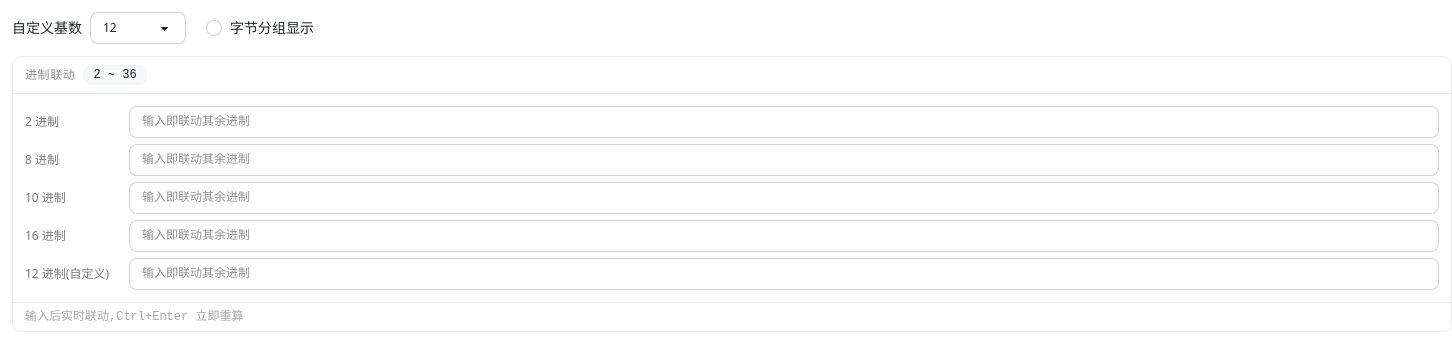
Test: Radix 多进制同显(FE6) › 任一进制行可作输入源:改写 16 进制驱动其余联动
The image size is (1452, 349).
In the field named "16 进制": [784, 236] box [129,220,1439,252], type "ff"
Wait 150 ms
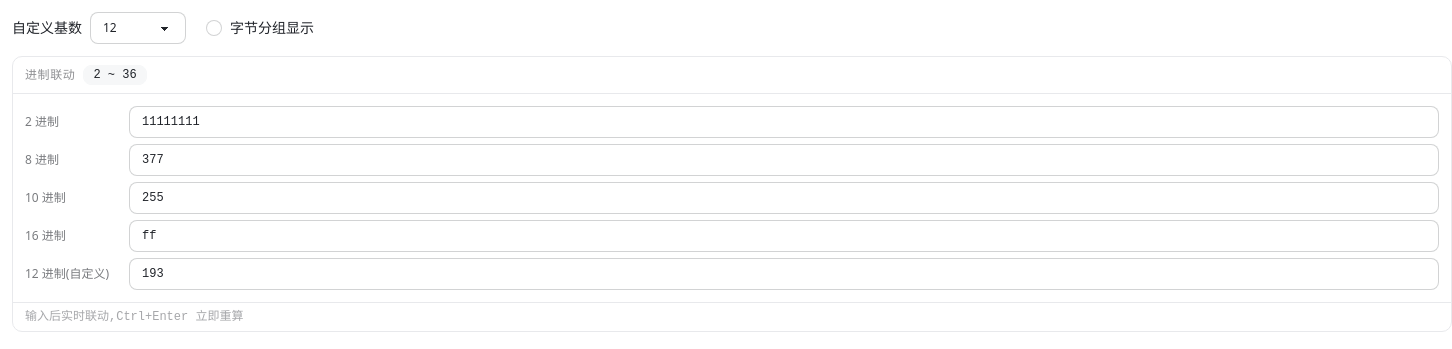
Expected: the field named "10 进制" holds "255", [129,182,1439,214]
